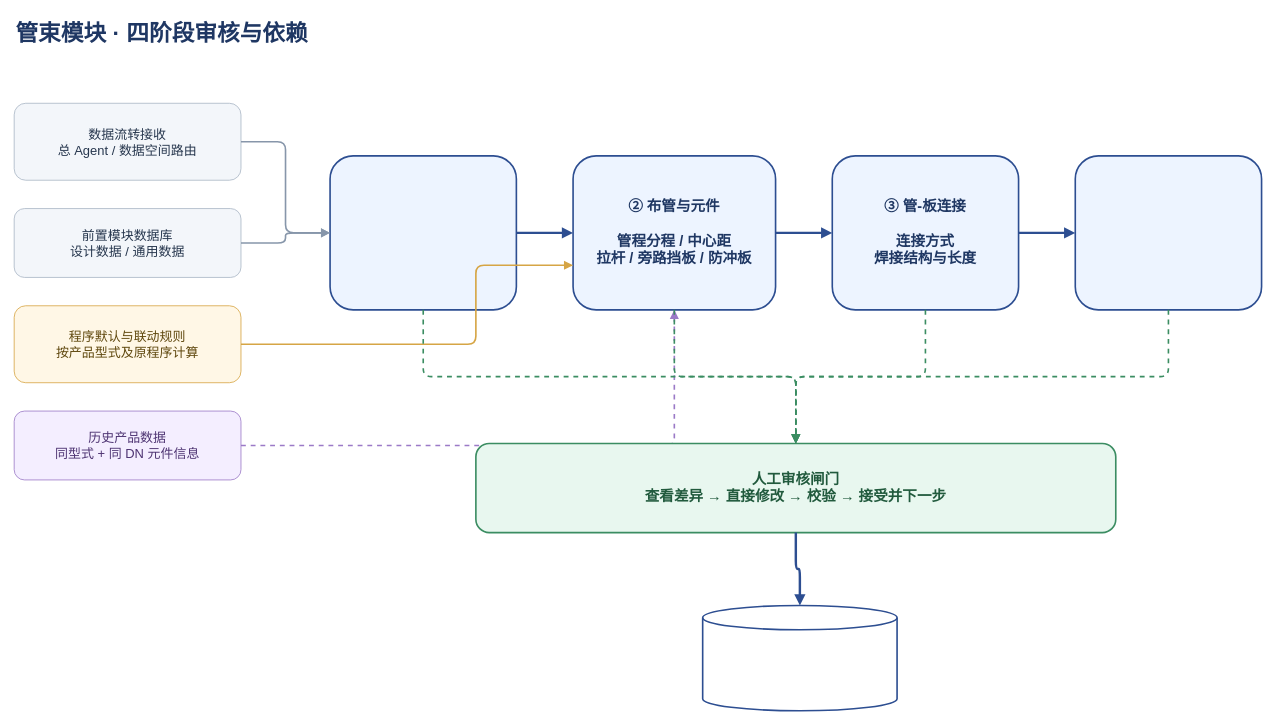
The diagram is 1277 pixels wide and 725 high, and some of its shapes have lost their labels. Each missing label, with the centre of its shape:
① 管板型式 管板节点参数 布管限定圆 DL: the point at 423,232
④ 轴向设计 换热管轴向参数 元件间距与厚度: the point at 1168,232
业务数据库 管束参数 / 元件信息 / 审核记录: the point at 799,657
